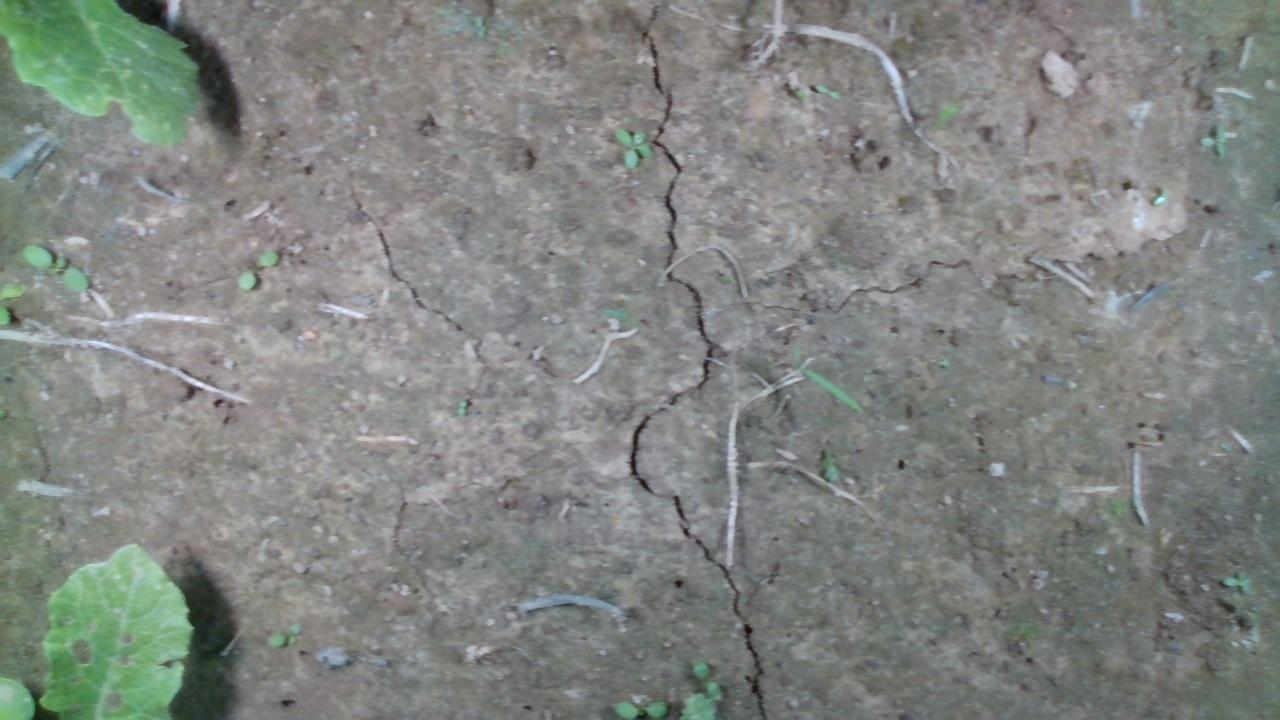weed: (17, 242, 88, 292), (235, 247, 280, 290)
